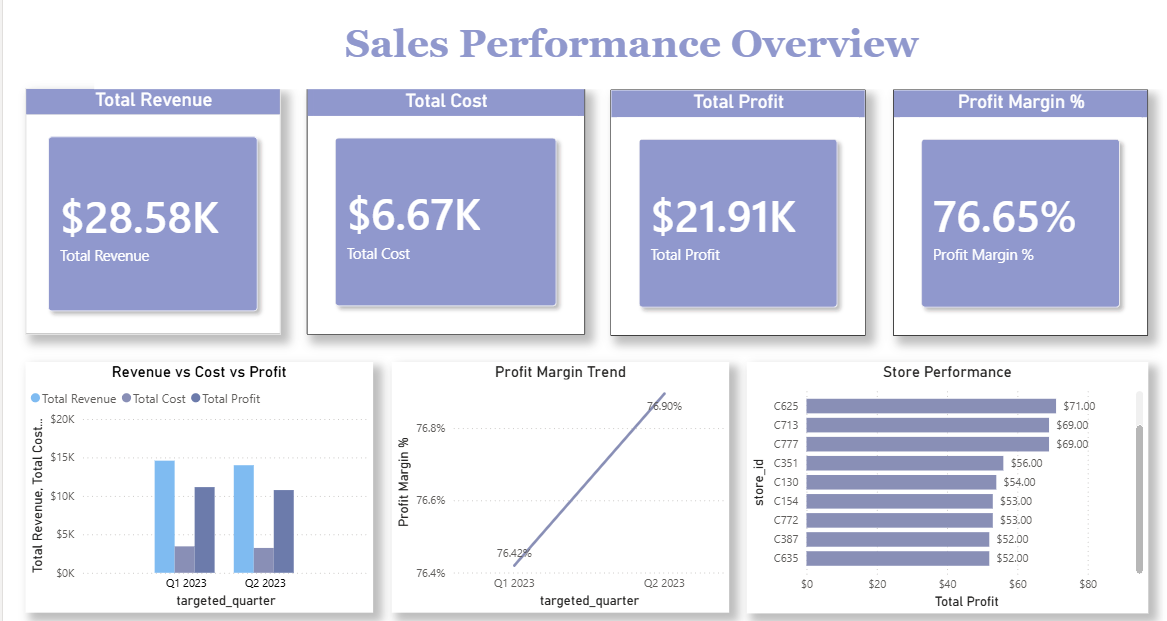

This screenshot's page, from the dashboard's own definition file:
{"tool":"powerbi","page":{"name":"Page 1","canvas":[1280,720],"ordinal":0},"visuals":[{"type":"cardVisual","title":"Total Revenue","fields":{"Data":["public coles_sales.Total Revenue"]},"box":[68.5,134.5,280,270.2],"z":0},{"type":"cardVisual","title":"Total Cost","fields":{"Data":["public coles_sales.Total Cost"]},"box":[348.5,134.5,305.7,270.2],"z":1000},{"type":"cardVisual","title":"Total Profit","fields":{"Data":["public coles_sales.Total Profit"]},"box":[654.2,134.5,280,270.2],"z":2000},{"type":"cardVisual","title":"Profit Margin %","fields":{"Data":["public coles_sales.Profit Margin %"]},"box":[934.2,134.5,280,270.2],"z":3000},{"type":"textbox","box":[100.2,54.9,1180.1,79.6],"z":4000},{"type":"clusteredColumnChart","title":"Revenue vs Cost vs Profit","fields":{"Category":["public coles_sales.targeted_quarter"],"Y":["public coles_sales.Total Revenue","public coles_sales.Total Cost","public coles_sales.Total Profit"]},"box":[68.5,445.1,381.5,275.1],"z":5000},{"type":"lineChart","title":"Profit Margin Trend","fields":{"Category":["public coles_sales.targeted_quarter"],"Y":["public coles_sales.Profit Margin %"]},"box":[436.6,434.1,370.5,275.1],"z":6000},{"type":"clusteredBarChart","title":"Store Performance","fields":{"Category":["public coles_sales.store_id"],"Y":["public coles_sales.Total Profit"]},"box":[818.1,462.2,396.2,258],"z":7000}]}

Visuals, with their boxes on the page's 1280x720 design canvas (x1, y1, x2, y2). These are canvas units, not pixel positions in the 1167x621 screenshot, which may show the page scaled, cropped or inside an application window:
"Total Revenue" cardVisual: pyautogui.locateOnScreen(68, 134, 348, 405)
"Total Cost" cardVisual: pyautogui.locateOnScreen(348, 134, 654, 405)
"Total Profit" cardVisual: pyautogui.locateOnScreen(654, 134, 934, 405)
"Profit Margin %" cardVisual: pyautogui.locateOnScreen(934, 134, 1214, 405)
textbox: pyautogui.locateOnScreen(100, 55, 1280, 134)
"Revenue vs Cost vs Profit" clusteredColumnChart: pyautogui.locateOnScreen(68, 445, 450, 720)
"Profit Margin Trend" lineChart: pyautogui.locateOnScreen(437, 434, 807, 709)
"Store Performance" clusteredBarChart: pyautogui.locateOnScreen(818, 462, 1214, 720)
